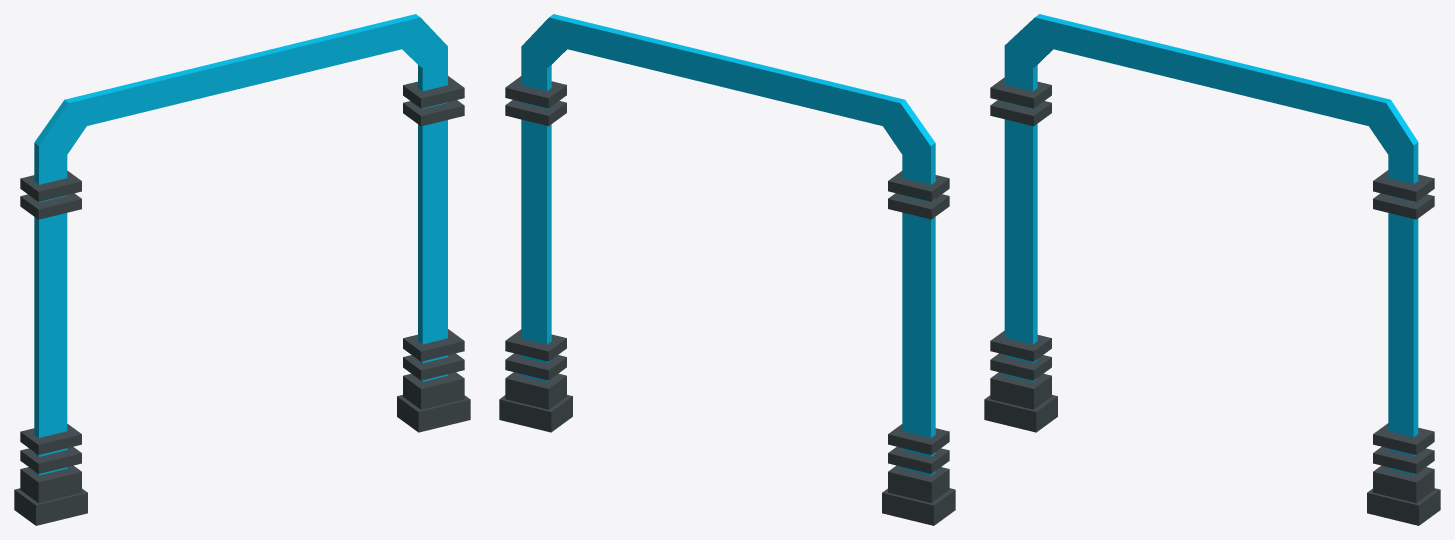
The model's file is Arc 01 Blue.FBX.
3 views of the same model, side by side, from view 1: azimuth 30°, elevation 25°; view 2: azimuth 150°, elevation 25°; view 3: azimuth 330°, elevation 25° (orthographic).
Parts seen in each view (by area): view 1: Arc 01 Blue; view 2: Arc 01 Blue; view 3: Arc 01 Blue.
Part boxes in pixels (x1,y1,x2,y2): Arc 01 Blue: (14, 14, 470, 525); Arc 01 Blue: (499, 14, 955, 525); Arc 01 Blue: (984, 14, 1440, 525).
Bounding box in the file's own units: 290 × 260 × 25.22.
